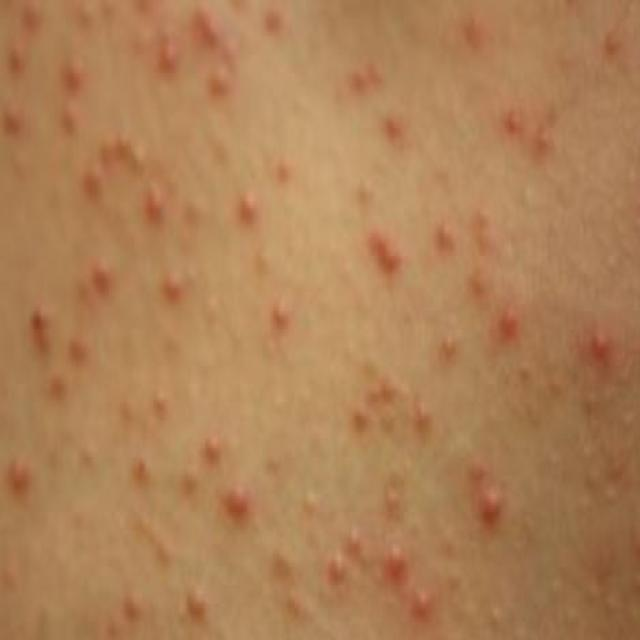fungal: (2, 1, 640, 636)
